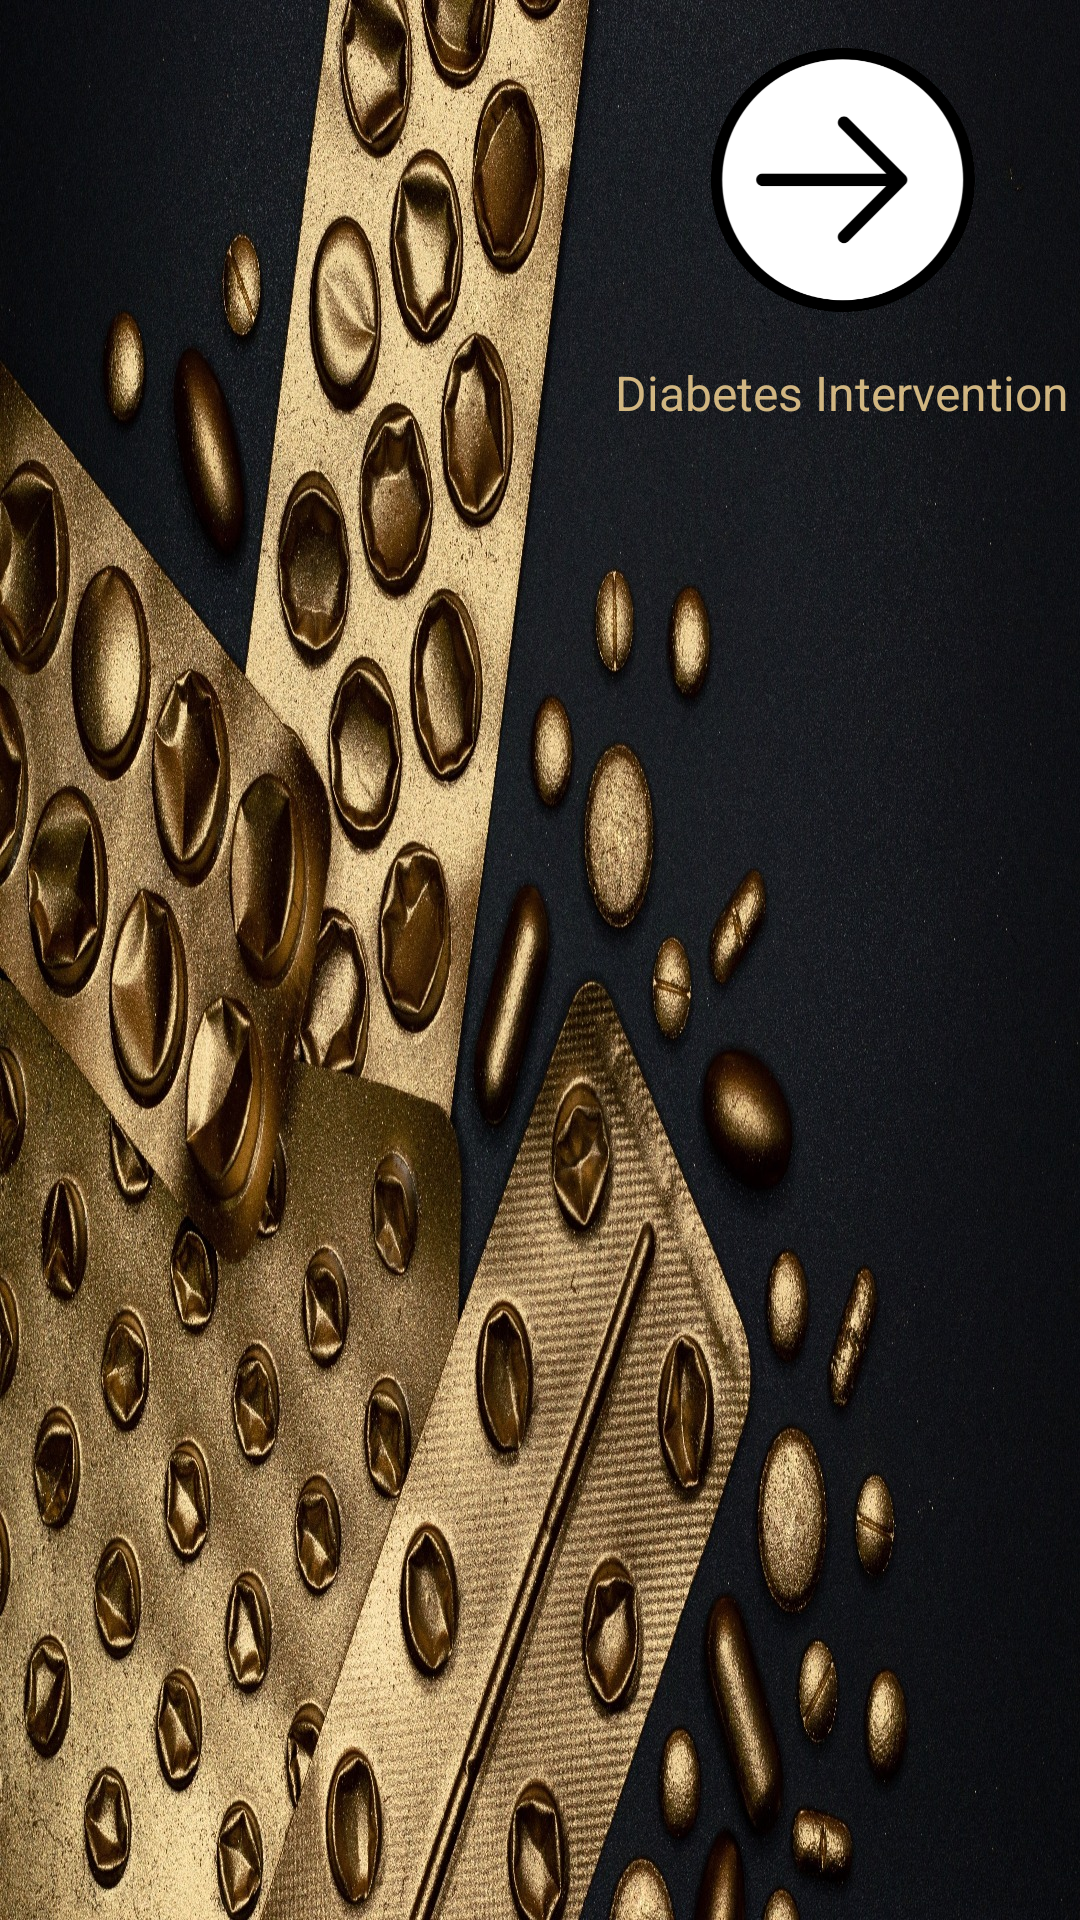

Where icons sit on this 1080x1920 app screen, as detection(x1, y1, x2, y2):
right: detection(711, 48, 975, 312)
